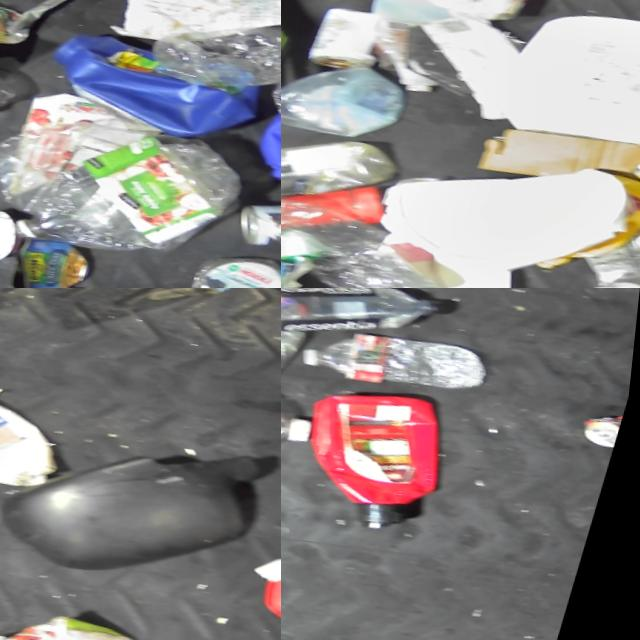can: (301, 0, 395, 80), (11, 234, 112, 288), (236, 190, 281, 270), (0, 201, 38, 275), (585, 412, 633, 459)
milk_jug: (491, 0, 640, 169), (380, 0, 568, 40)
non_white_jug: (37, 19, 281, 164), (289, 382, 472, 548)
plastic_bottle: (16, 113, 266, 282), (281, 170, 476, 288), (301, 320, 502, 412), (143, 0, 281, 124), (281, 288, 466, 372), (281, 111, 409, 226), (281, 365, 331, 482)
